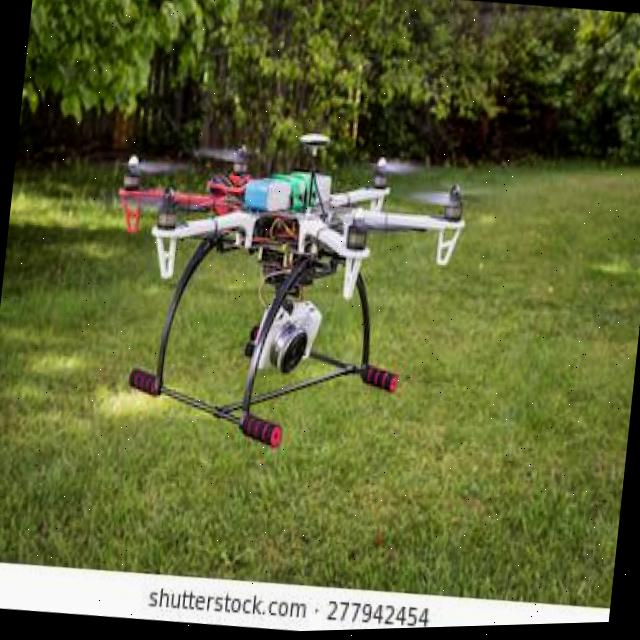drone: (0, 80, 640, 640)
